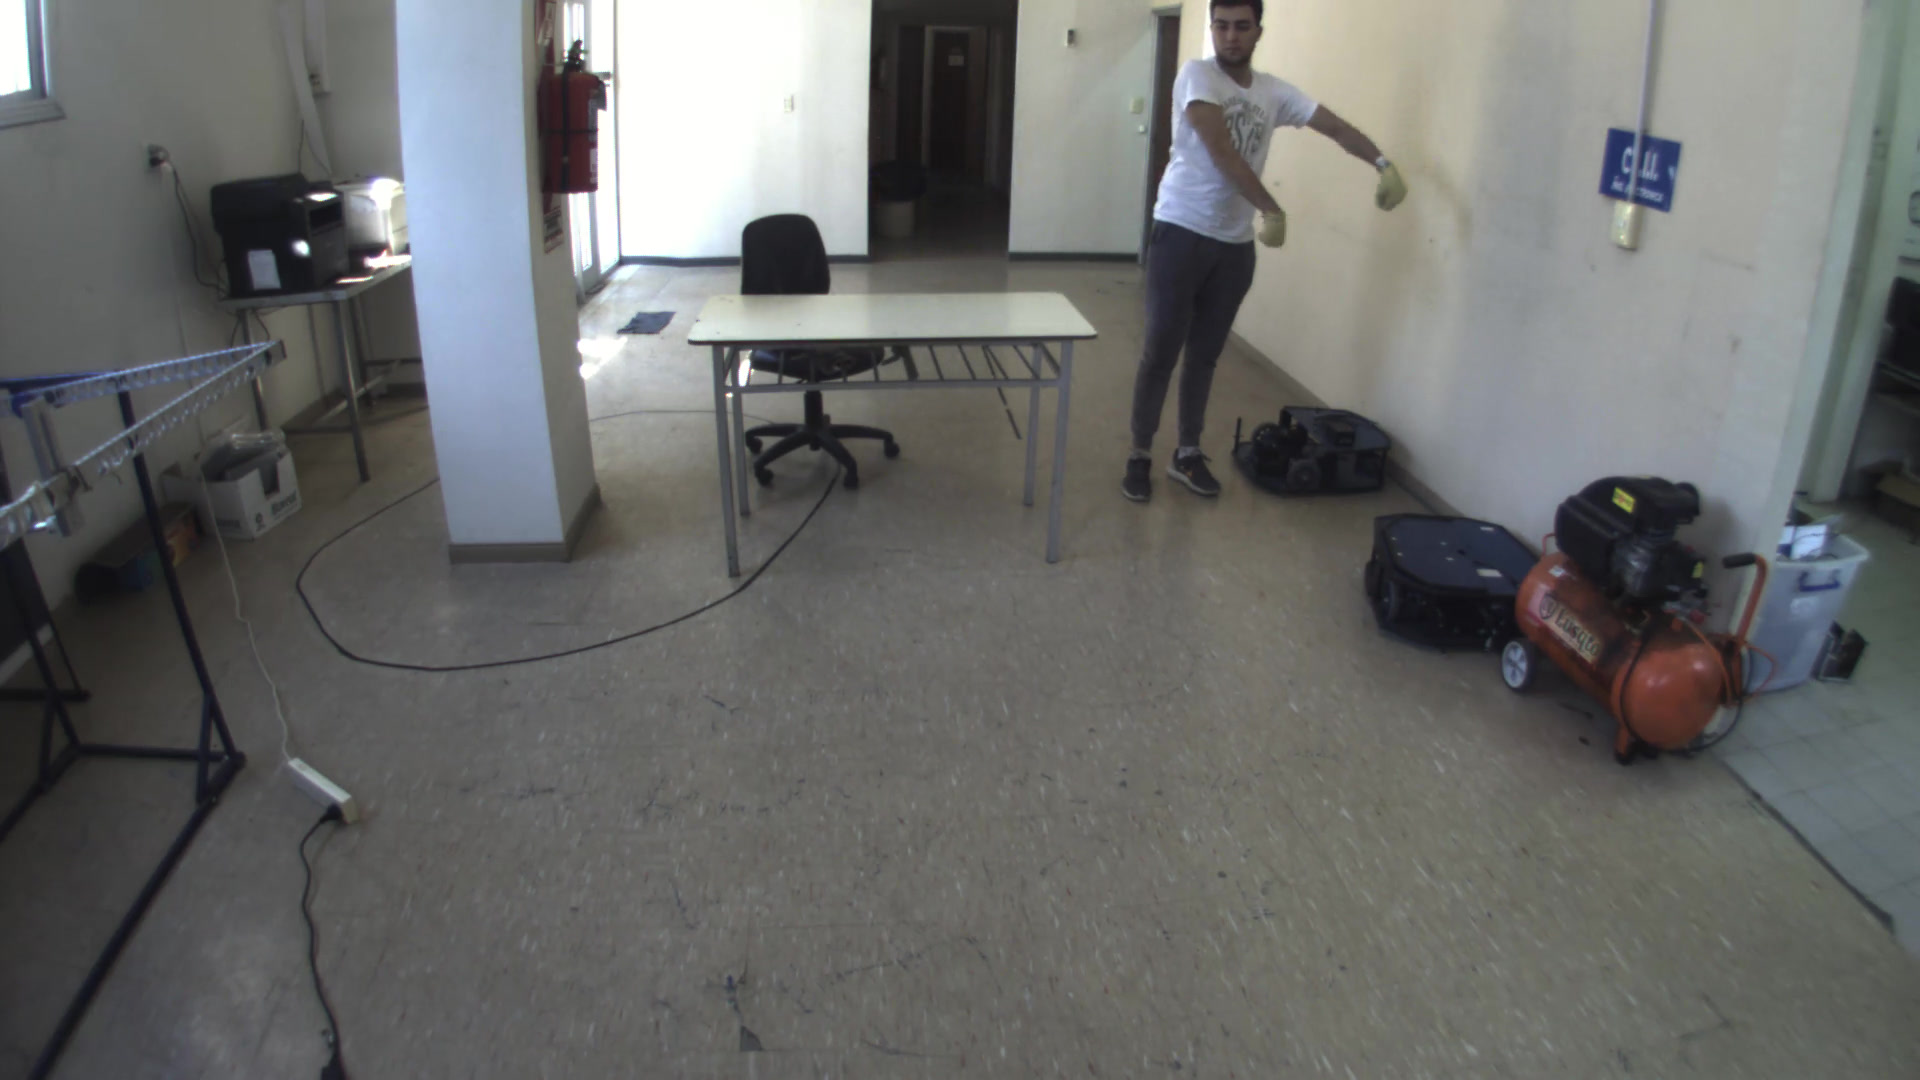hand: (1246, 202, 1304, 261), (1371, 164, 1422, 214)
